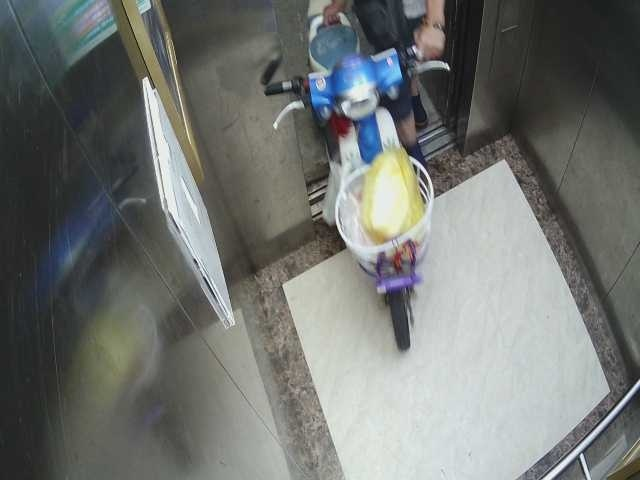emotor: (265, 5, 487, 353)
